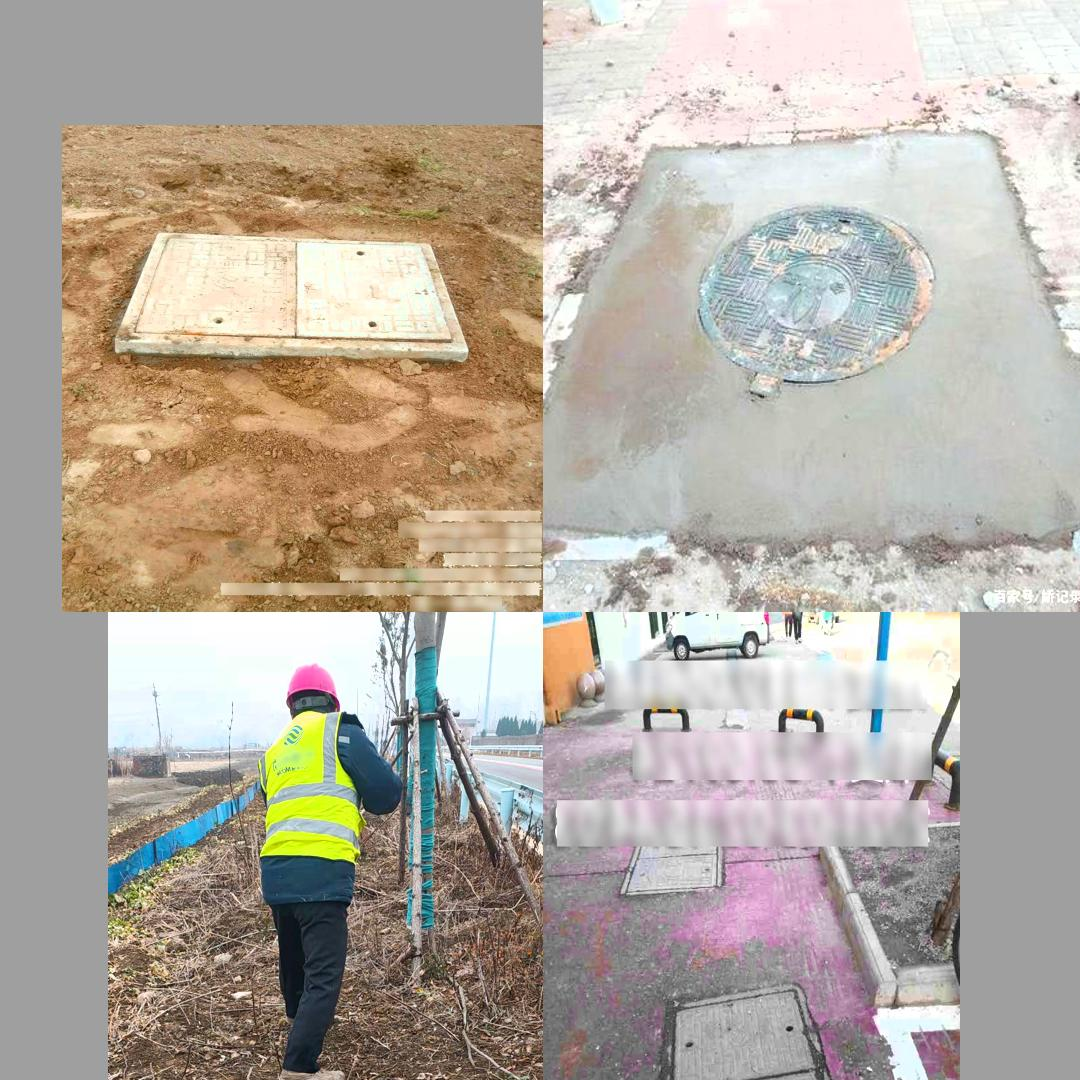good: (559, 127, 1071, 563), (114, 232, 467, 347), (655, 983, 864, 1080), (619, 827, 723, 895)
